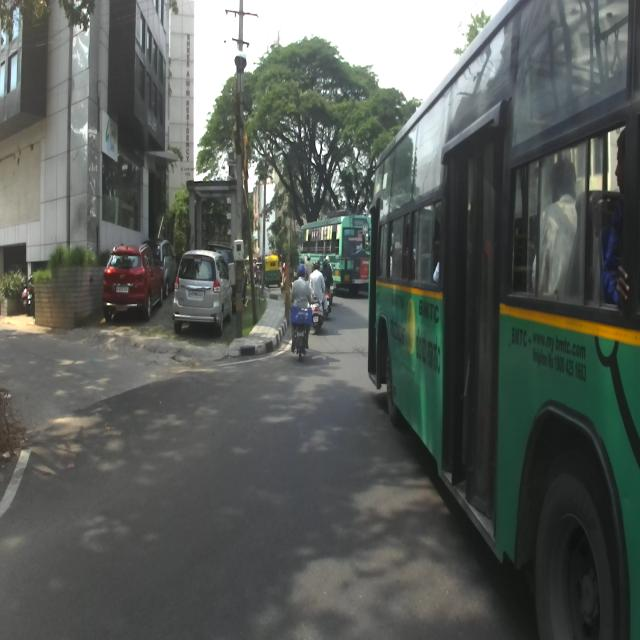bus ahead at: (361, 0, 640, 640)
car ahead at: (102, 246, 164, 320), (176, 250, 224, 322)
electric pole ahead at: (218, 0, 253, 340)
